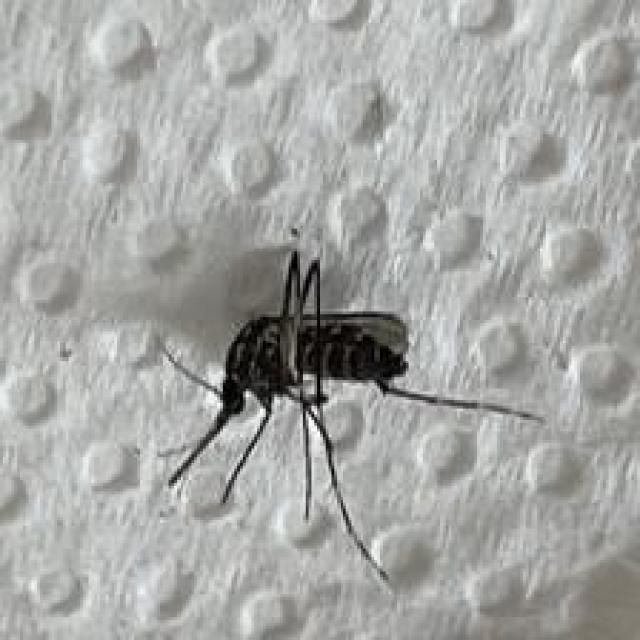Aedes albopictus: (157, 228, 546, 592)
